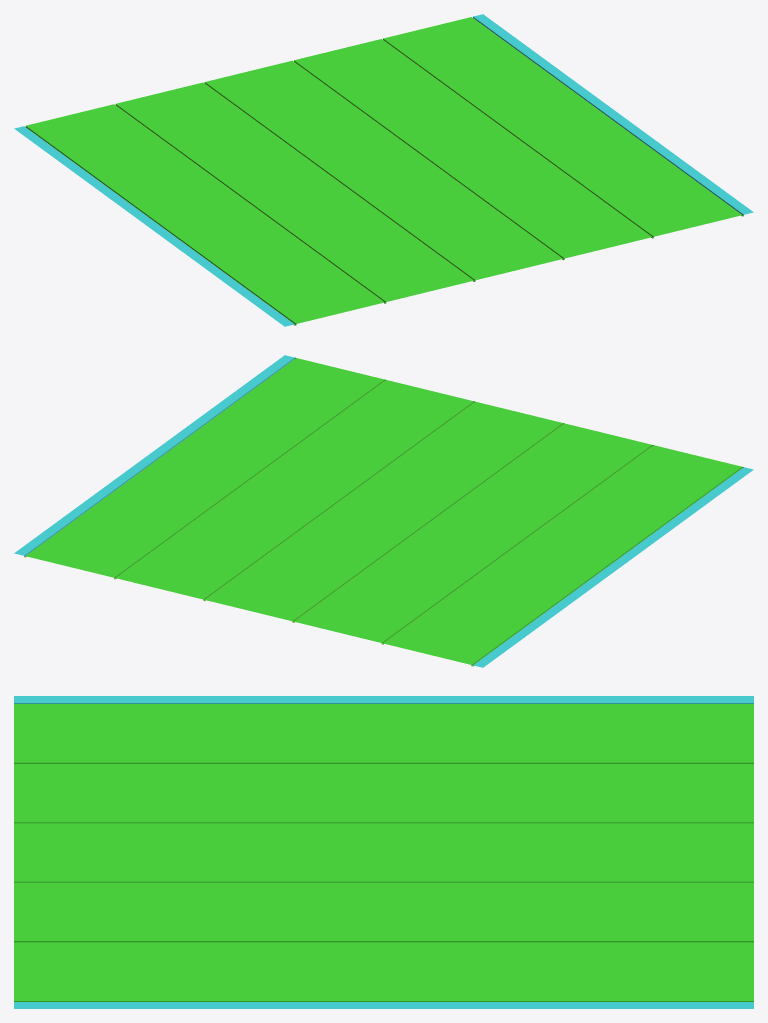
File: Floor_16_Edge.fbx
3 views of the same model, one above another, from view 1: azimuth 30°, elevation 25°; view 2: azimuth 150°, elevation 25°; view 3: azimuth 270°, elevation 25° (orthographic). The views are drawn at different scales.
Visible parts, largest first — view 1: Floor_16_Edge; view 2: Floor_16_Edge; view 3: Floor_16_Edge.
Part boxes in pixels (<box>): Floor_16_Edge: <box>14,14,753,326</box>; Floor_16_Edge: <box>14,355,753,667</box>; Floor_16_Edge: <box>14,696,753,1008</box>.
Size of the model in its own units: 457 by 1.27 by 457.
